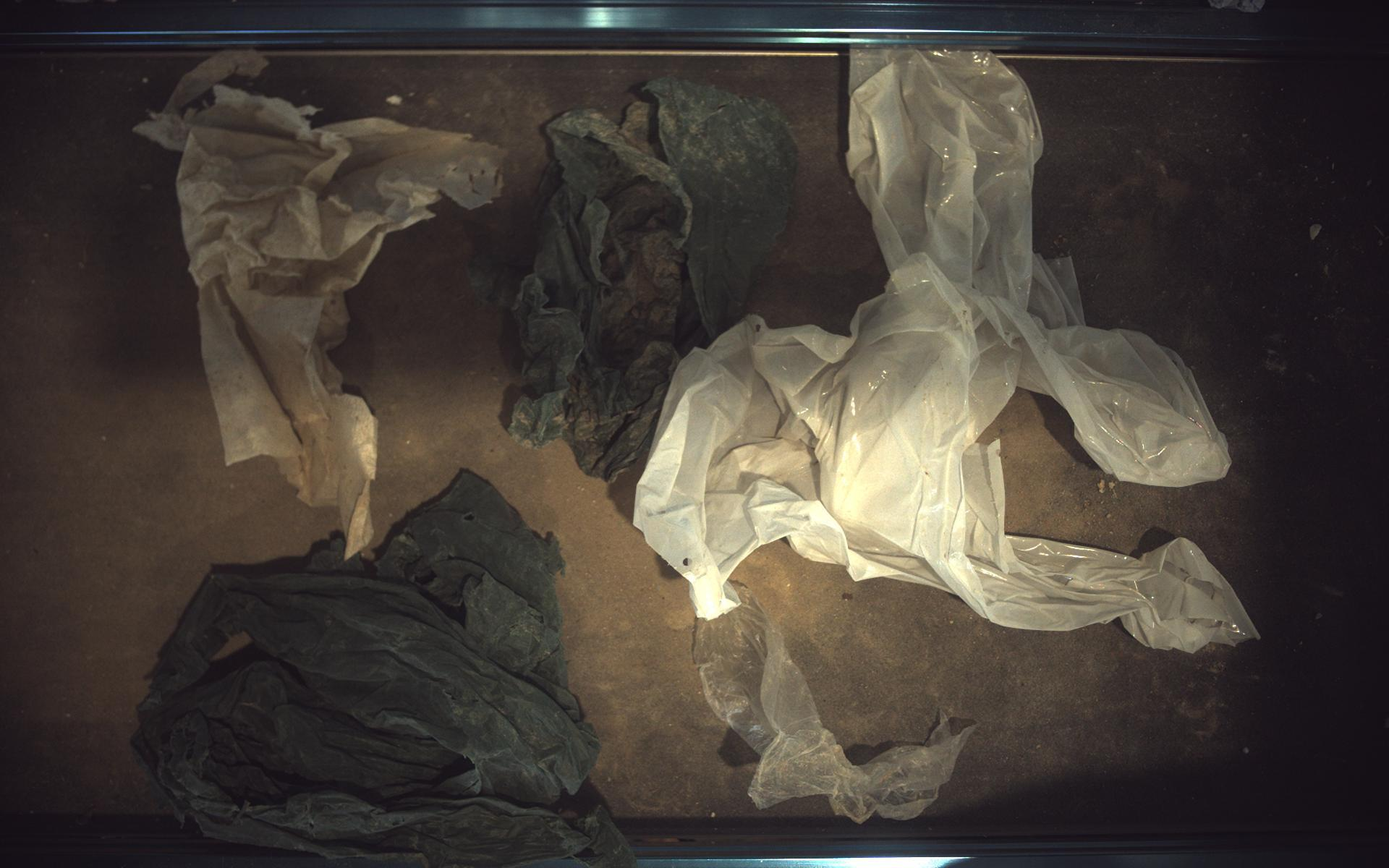general_w: (636, 48, 1259, 652), (132, 472, 634, 868), (135, 50, 502, 556), (510, 76, 797, 480), (694, 584, 976, 825)
